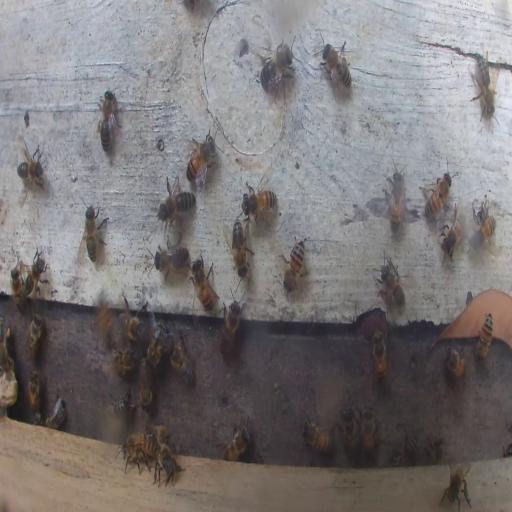bee: (316, 36, 353, 100), (257, 40, 296, 95), (469, 54, 497, 126), (420, 164, 454, 223), (81, 198, 109, 262), (158, 176, 194, 224), (184, 132, 216, 186), (385, 163, 409, 235), (377, 255, 406, 313), (440, 460, 473, 510), (218, 293, 244, 354), (96, 86, 120, 152), (16, 143, 46, 195), (191, 252, 217, 311), (281, 236, 306, 293), (230, 218, 253, 278), (440, 203, 464, 260), (242, 184, 277, 222), (155, 240, 190, 278), (168, 333, 194, 384), (117, 296, 144, 342), (22, 248, 45, 300), (222, 421, 251, 460), (119, 434, 154, 466), (90, 303, 116, 342), (155, 448, 180, 488), (147, 320, 167, 369), (25, 311, 43, 364), (304, 420, 333, 452), (474, 202, 496, 243), (110, 386, 138, 418), (476, 312, 494, 361), (372, 328, 387, 385), (341, 406, 358, 456), (392, 433, 418, 465), (443, 345, 467, 379), (10, 262, 26, 312), (112, 345, 137, 376), (361, 408, 376, 458), (44, 396, 66, 430), (0, 316, 12, 376), (139, 361, 153, 409), (148, 424, 174, 446), (29, 371, 41, 416), (426, 437, 445, 463)
